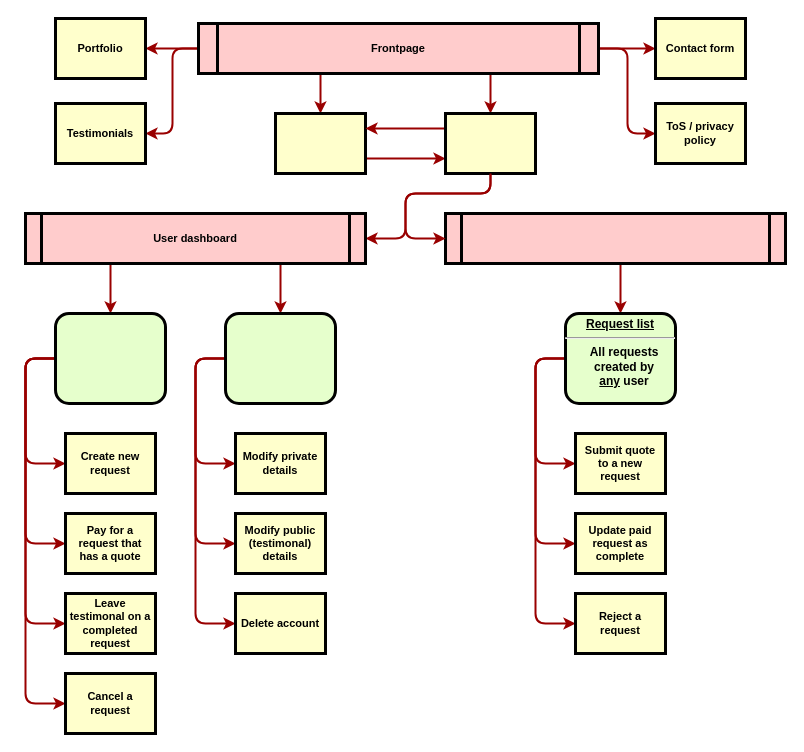
The diagram is 804 pixels wide and 752 high, and some of its shapes have lost their labels. Here are the shapes that lost their labels. From the top down, the centre of each, then its label:
At [320,143]: "Sign up".
At [490,143]: "Sign in".
At [615,238]: "Owner dashboard".
At [110,358]: "Request list All requests created by the user".
At [280,358]: "User settings Change user's personal details".
